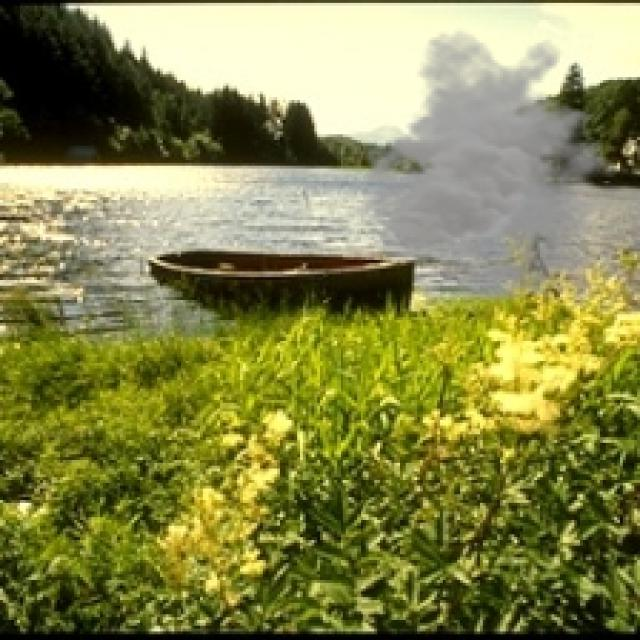smoke: (352, 28, 634, 303)
